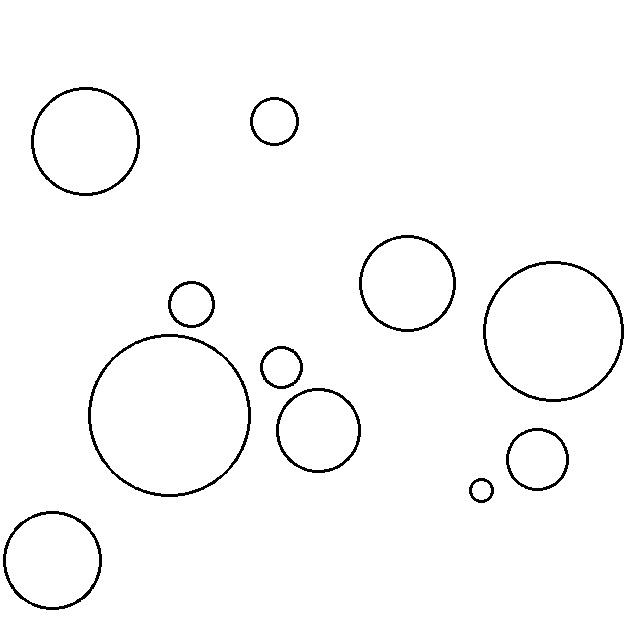circle: (86, 331, 254, 498), (481, 259, 629, 405), (30, 84, 143, 198), (357, 232, 460, 335), (3, 513, 106, 611), (274, 388, 363, 476), (504, 425, 572, 493), (249, 93, 301, 148), (165, 278, 218, 329), (258, 340, 306, 391), (469, 478, 496, 503)
